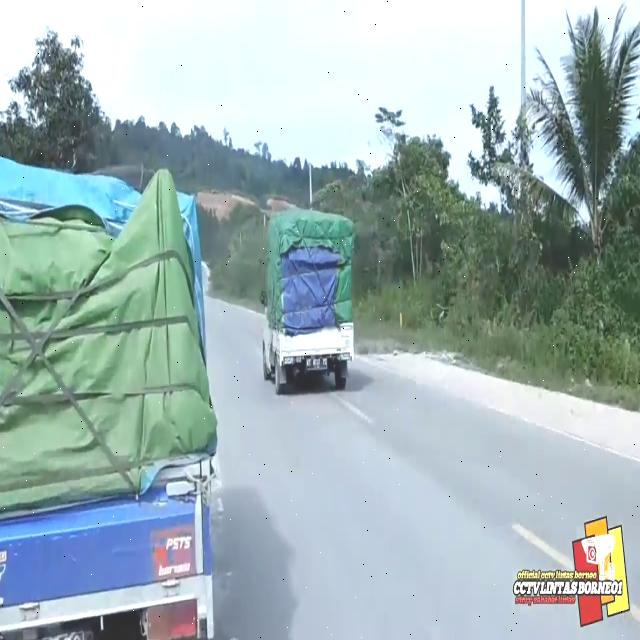Golongan IVB: (262, 260, 354, 394)
